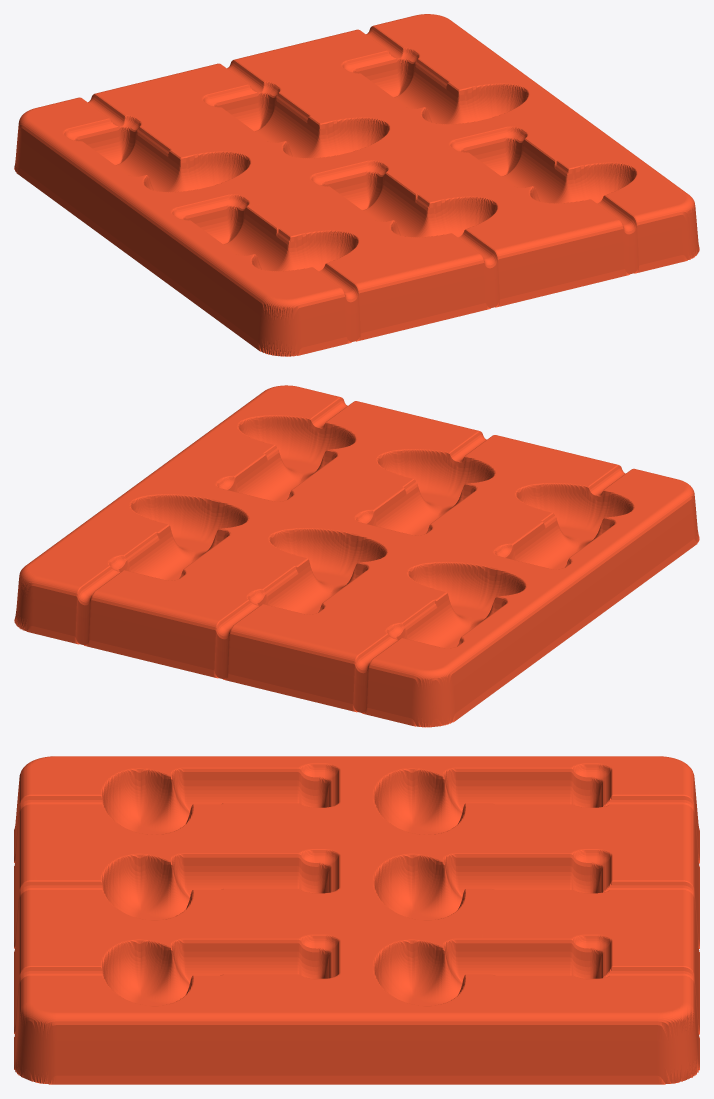
The model's file is mold.glb.
3 renders of one model, top to bottom at view 1: azimuth 30°, elevation 25°; view 2: azimuth 150°, elevation 25°; view 3: azimuth 270°, elevation 25°, orthographic. The views are drawn at different scales.
Visible parts, largest first — view 1: geometry_0; view 2: geometry_0; view 3: geometry_0.
Boxes of the visible parts, x1,y1,x2,y2 form: geometry_0: (14, 14, 699, 356); geometry_0: (14, 385, 699, 727); geometry_0: (14, 756, 699, 1084).
Bounding box in the file's own units: 0.1373 × 0.0155 × 0.1477.
